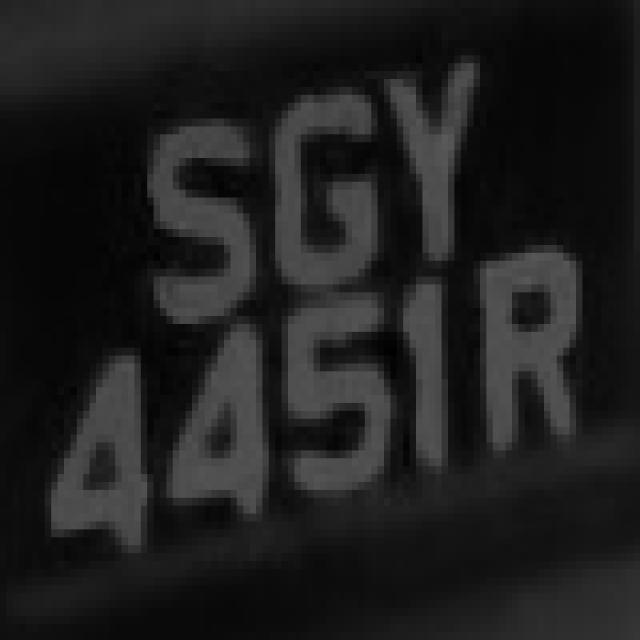1: (390, 253, 454, 529)
4: (32, 340, 160, 592), (172, 308, 282, 530)
5: (276, 261, 390, 514)
G: (250, 48, 384, 284)
R: (467, 229, 595, 466)
S: (122, 110, 243, 332)
Y: (358, 63, 499, 261)
